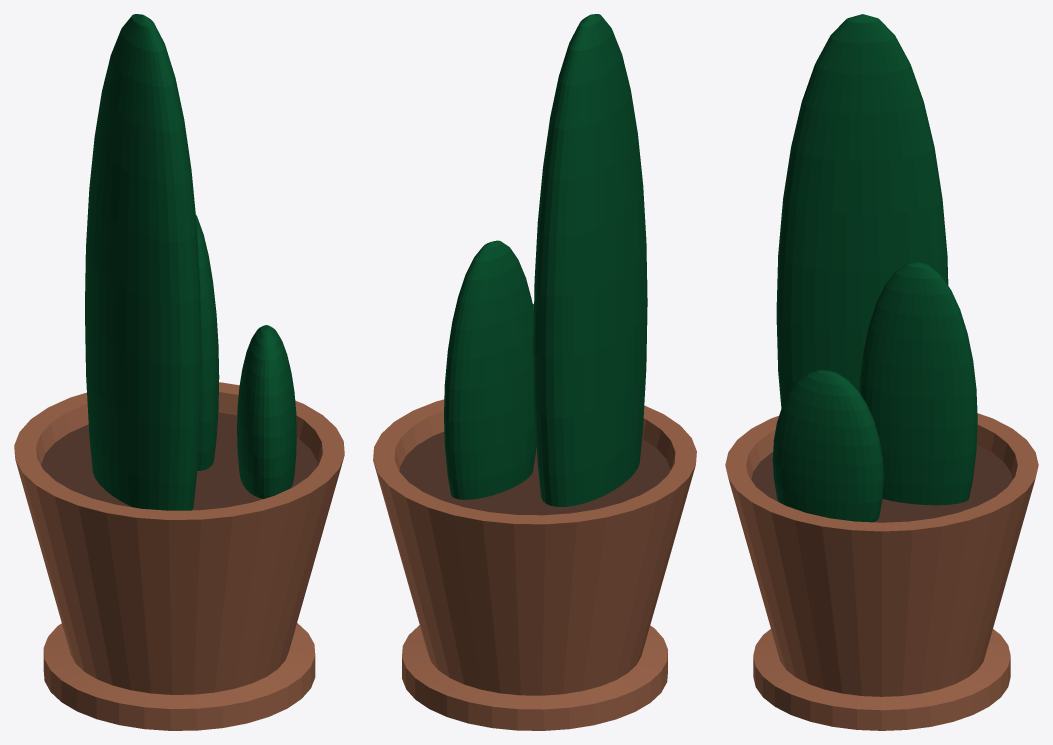
Rendered from plant1.fbx.
3 renders of one model, left to right at view 1: azimuth 30°, elevation 25°; view 2: azimuth 150°, elevation 25°; view 3: azimuth 270°, elevation 25°, orthographic. The views are drawn at different scales.
Visible parts, largest first — view 1: Cylinder; view 2: Cylinder; view 3: Cylinder.
Boxes of the visible parts, box(x1,y1,x2,y2) form: Cylinder: box(14, 14, 344, 730); Cylinder: box(373, 14, 696, 730); Cylinder: box(725, 14, 1038, 730).
Bounding box in the file's own units: 302 × 683 × 302.
